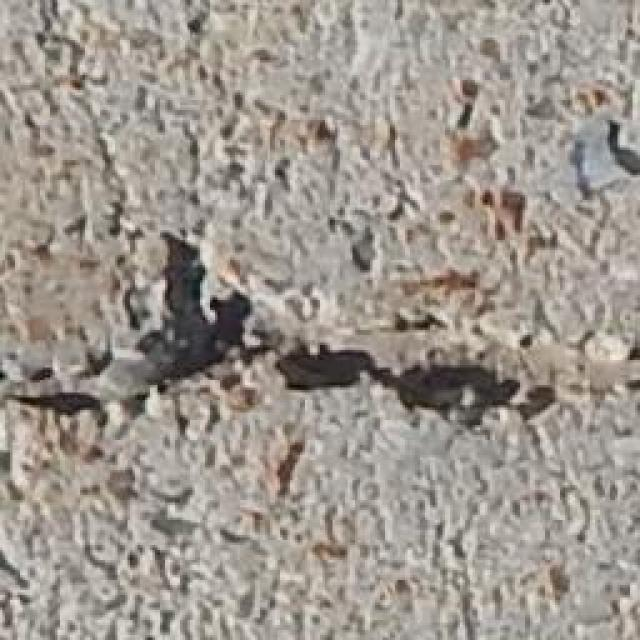concrete-crack: (0, 232, 566, 439)
